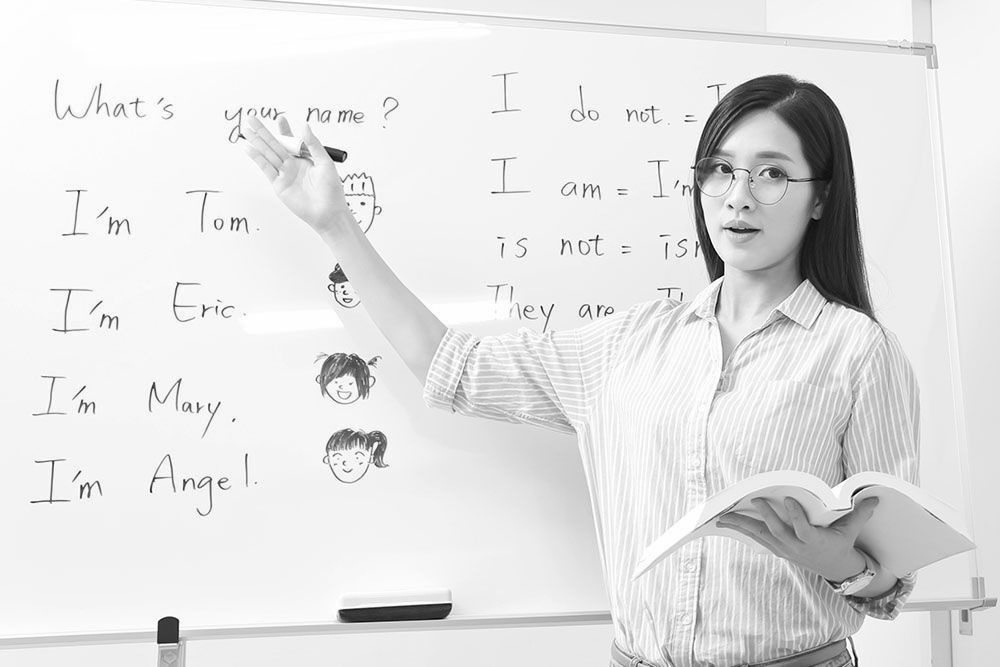pointing_gesture: (227, 106, 368, 238)
